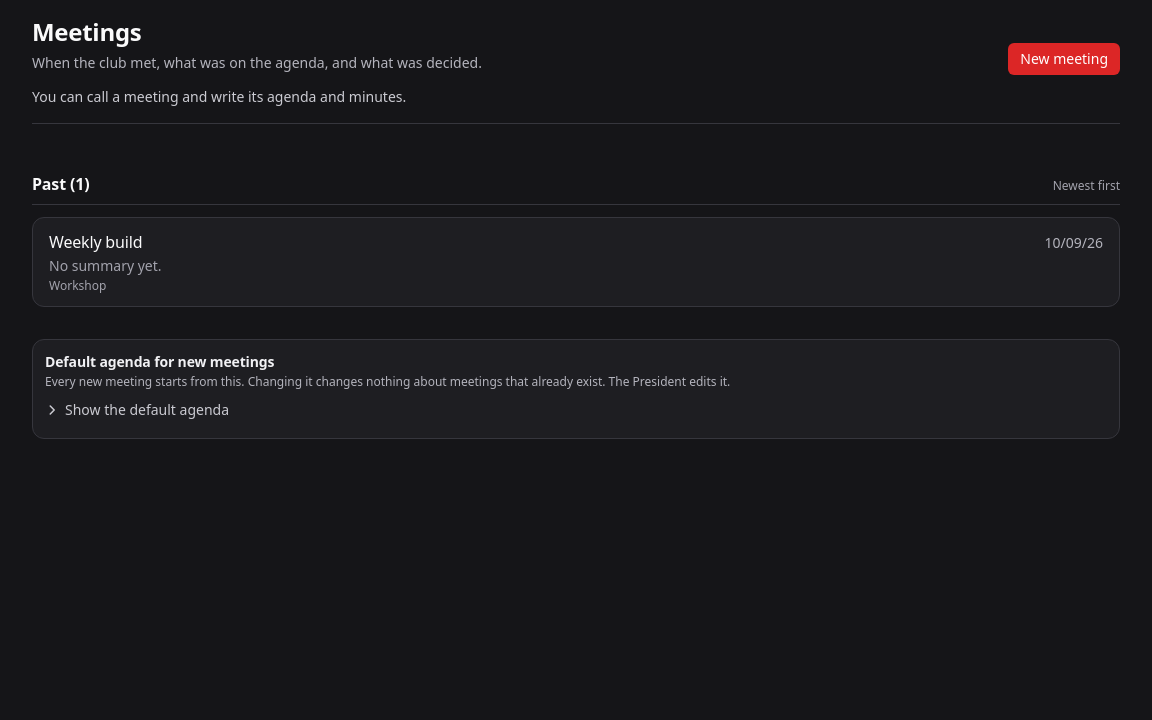
Test: calling and editing a meeting › finds an absentee by searching, adds them to the list, and saves everyone else as present
Later steps or results of the test are not shown.
Click the button "Weekly build" at (96, 242), box [49, 230, 142, 254]
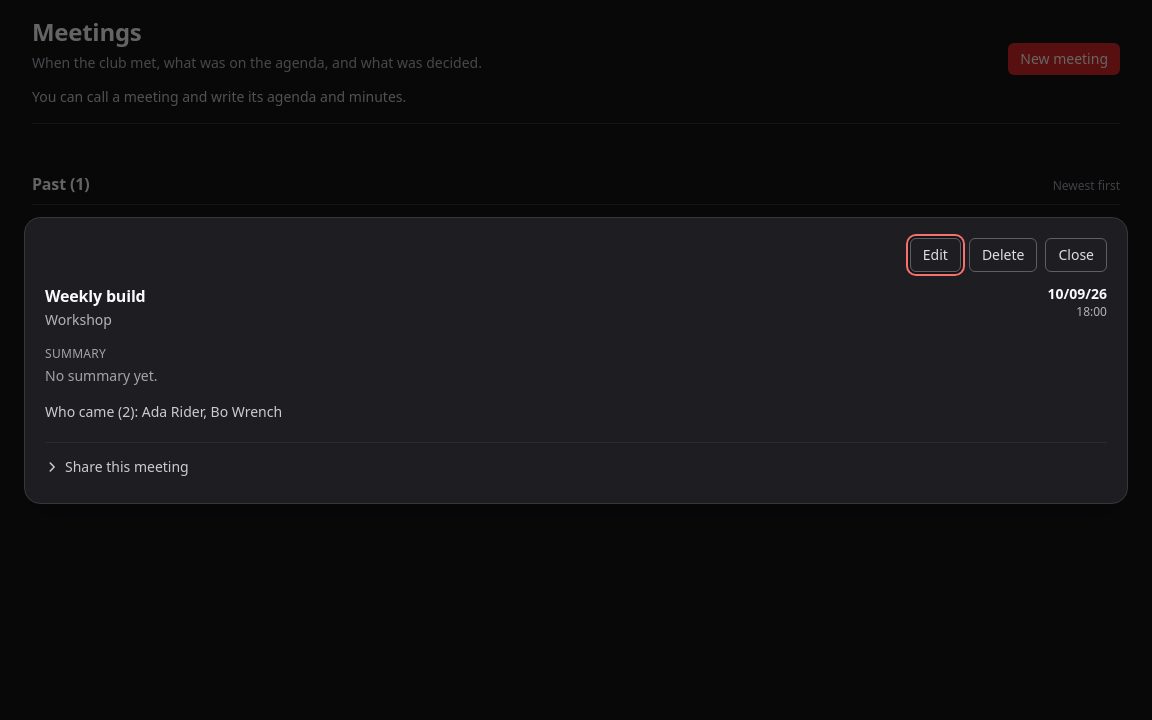
Click the button with aria-label "Edit Weekly build" at (935, 254), box [910, 238, 961, 272]
(page scrolled)
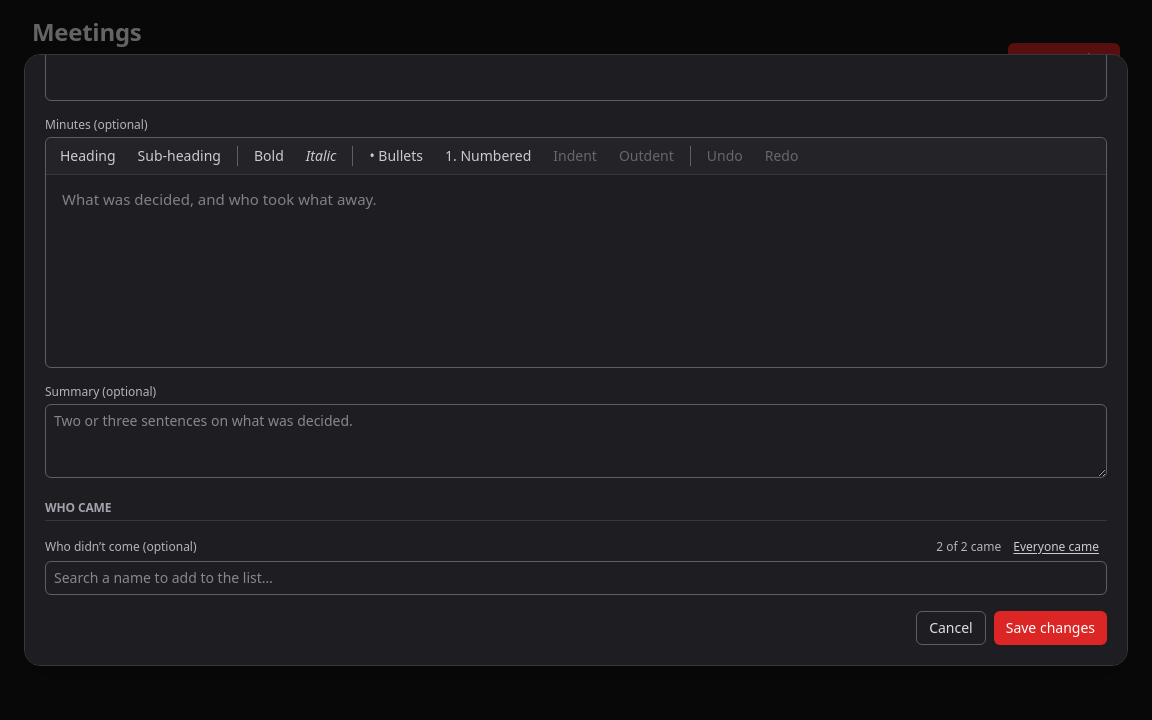
Now the text with test id "attendance-count" reads "2 of 2 came", box [936, 538, 1001, 555]
Type "wre" into the dropdown named "didn’t come" at (576, 578), box [45, 561, 1107, 595]
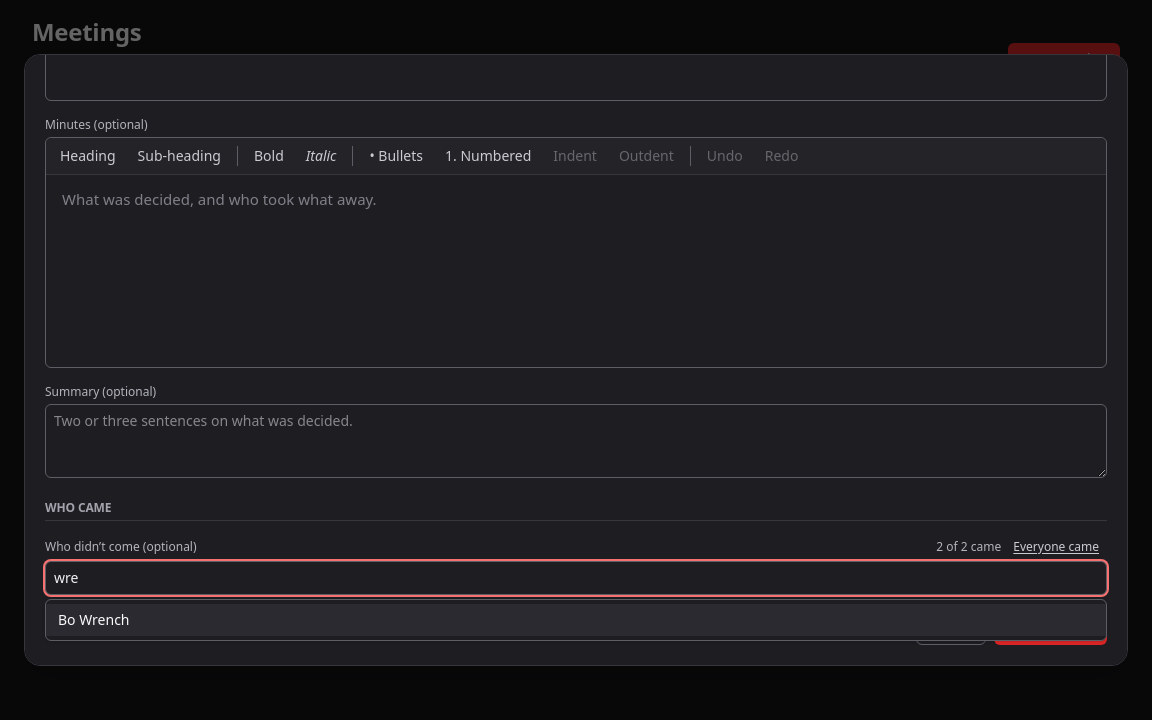
Now the number of options is 1
Click the option "Bo Wrench" at (94, 619), box [46, 604, 1106, 636]
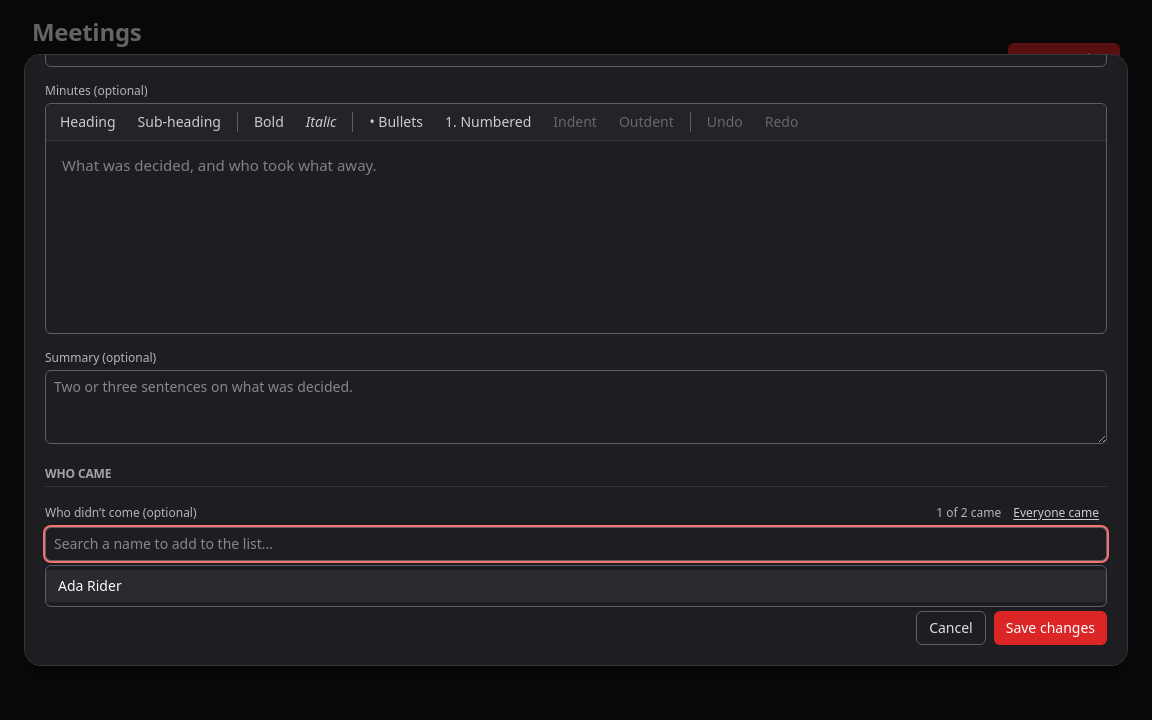
Now the text "Bo Wrench" is shown, box [58, 572, 130, 592]
Now the text with test id "attendance-count" reads "1 of 2 came", box [936, 504, 1001, 521]
